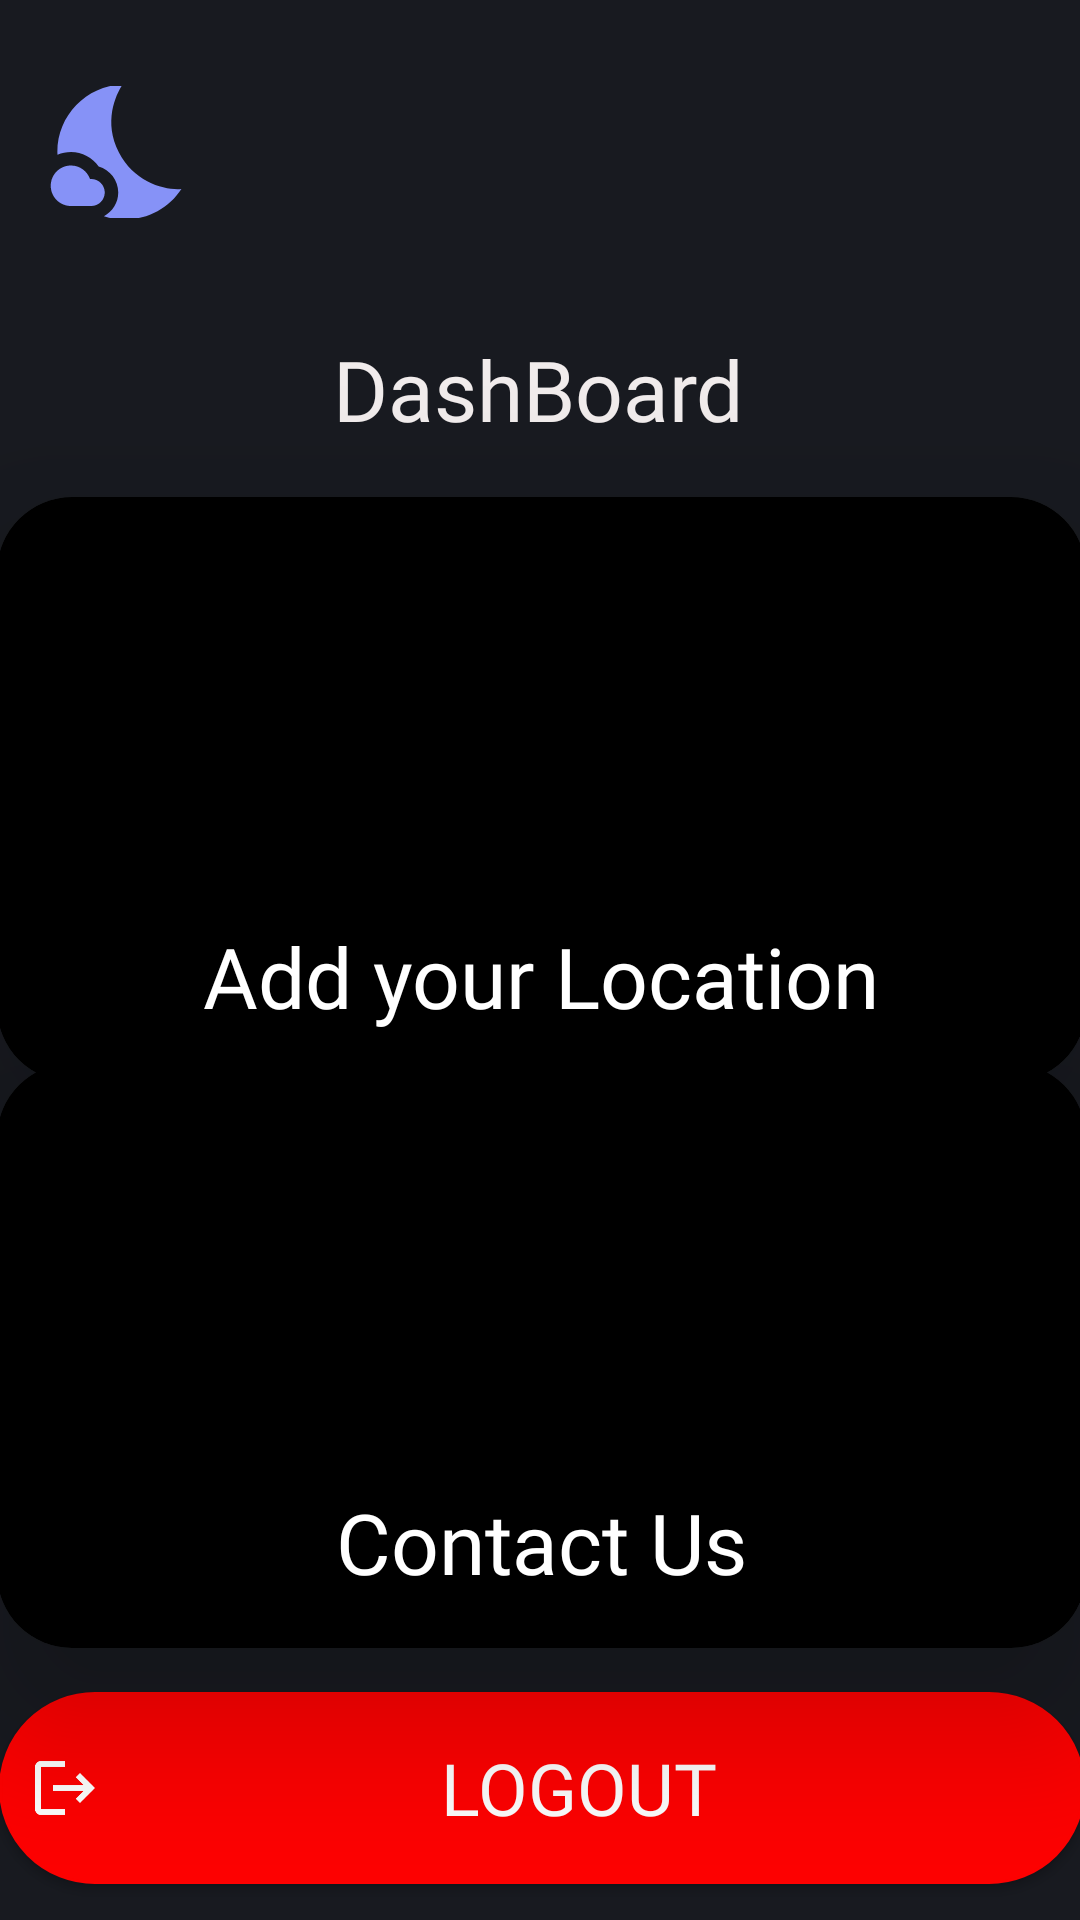

Where icons sit on this 1080*1920 app screen, as (x1, y1, x2, y2):
nights stay: (50, 86, 182, 218)
